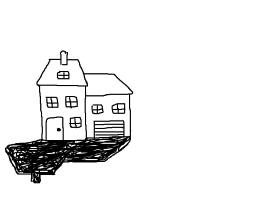chimney: (59, 49, 71, 67)
closed_window: (42, 93, 61, 112), (67, 114, 83, 134), (111, 100, 128, 116), (63, 93, 80, 108), (91, 101, 105, 114)
door: (90, 120, 127, 144), (43, 116, 67, 147)
roof: (31, 50, 90, 91), (78, 69, 141, 98)
shadow: (2, 137, 135, 187)
small_house: (2, 0, 260, 197)
wall: (34, 81, 90, 145), (82, 89, 133, 142)
